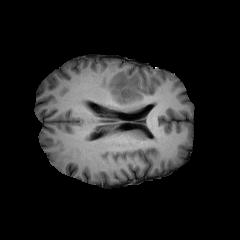glioma: (105, 70, 156, 107)
